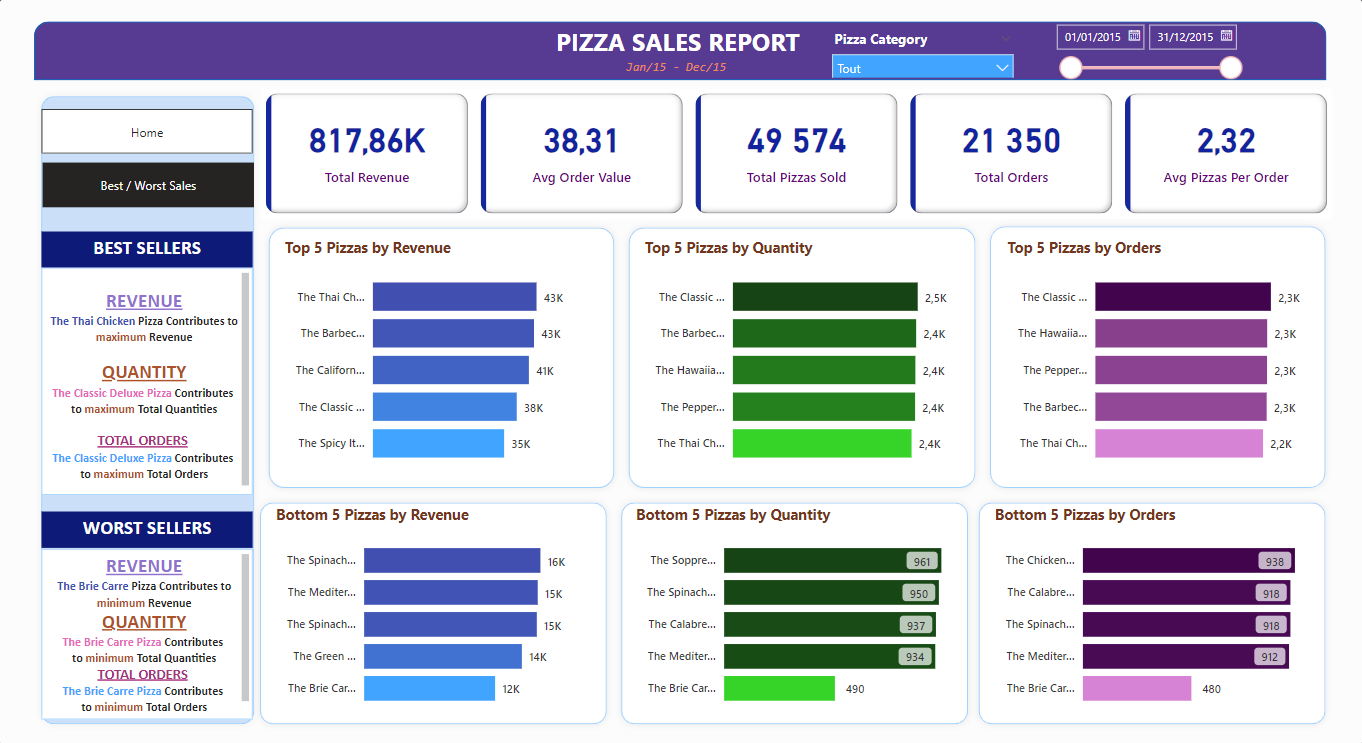

What the dashboard file says about the page in this screenshot:
{"tool":"powerbi","page":{"name":"Best / Worst Sales","canvas":[1500,820],"ordinal":1},"visuals":[{"type":"cardVisual","fields":{"Data":["pizza_sales$.Total Revenue","pizza_sales$.Avg Order Value","pizza_sales$.Total Pizzas Sold","pizza_sales$.Total Orders","pizza_sales$.Avg Pizzas Per Order"]},"box":[288.8,98.9,1177.1,142.8],"z":0},{"type":"shape","box":[38.5,24.7,1420.2,64.6],"z":1000},{"type":"textbox","box":[607.1,23.4,287.1,45.3],"z":2000},{"type":"textbox","box":[684,60.4,133.2,28.8],"z":3000},{"type":"shape","box":[288.4,243.1,395.6,302.2],"z":4000},{"type":"shape","box":[38.5,98.9,250,706],"z":5000},{"type":"textbox","box":[46.7,255.5,232.1,39.8],"z":6000},{"type":"textbox","box":[46.7,295.3,232.1,250],"z":7000},{"type":"textbox","box":[46.7,563.1,232.1,39.8],"z":8000},{"type":"textbox","box":[46.7,604.4,232.1,186.8],"z":9000},{"type":"slicer","fields":{"Values":["pizza_sales$.pizza_category"]},"box":[905.2,28.8,219.8,57.7],"z":10000},{"type":"slicer","fields":{"Values":["pizza_sales$.order_date"]},"box":[1149.6,17.9,225.3,81],"z":11000},{"type":"shape","box":[684,243.1,397,302.2],"z":12000},{"type":"shape","box":[1081,241.7,384.6,303.6],"z":13000},{"type":"shape","box":[278.8,545.3,397,259.6],"z":14000},{"type":"shape","box":[675.8,545.3,397,259.6],"z":15000},{"type":"shape","box":[1068.6,545.3,397,259.6],"z":16000},{"type":"barChart","title":"Top 5 Pizzas by Revenue","fields":{"Category":["pizza_sales$.pizza_name"],"Y":["pizza_sales$.Total Revenue"]},"box":[308.7,260.5,355.4,265.3],"z":17000},{"type":"barChart","title":"Bottom 5 Pizzas by Revenue","fields":{"Category":["pizza_sales$.pizza_name"],"Y":["pizza_sales$.Total Revenue"]},"box":[299.1,554.8,355.4,236.4],"z":18000},{"type":"barChart","title":"Top 5 Pizzas by Quantity","fields":{"Category":["pizza_sales$.pizza_name"],"Y":["pizza_sales$.Total Pizzas Sold"]},"box":[704.3,260.5,355.4,265.3],"z":19000},{"type":"barChart","title":"Bottom 5 Pizzas by Quantity","fields":{"Category":["pizza_sales$.pizza_name"],"Y":["pizza_sales$.Total Pizzas Sold"]},"box":[694.7,554.8,355.4,236.4],"z":20000},{"type":"barChart","title":"Top 5 Pizzas by Orders","fields":{"Category":["pizza_sales$.pizza_name"],"Y":["pizza_sales$.Total Orders"]},"box":[1103.1,260.5,355.4,265.3],"z":21000},{"type":"barChart","title":"Bottom 5 Pizzas by Orders","fields":{"Category":["pizza_sales$.pizza_name"],"Y":["pizza_sales$.Total Orders"]},"box":[1088.7,554.8,355.4,236.4],"z":22000},{"type":"pageNavigator","box":[48.1,179.9,232.1,49.4],"z":22001},{"type":"pageNavigator","box":[46.7,120.9,232.1,49.4],"z":22002}]}

Visuals, with their boxes in screenshot pixels (x1, y1, x2, y2), scaled from the page's 1500x820 canvas onto the 1362x743 screenshot:
cardVisual - pizza_sales$.Total Revenue x pizza_sales$.Avg Order Value: [262, 90, 1331, 219]
shape: [35, 22, 1324, 81]
textbox: [551, 21, 812, 62]
textbox: [621, 55, 742, 81]
shape: [262, 220, 621, 494]
shape: [35, 90, 262, 729]
textbox: [42, 232, 253, 268]
textbox: [42, 268, 253, 494]
textbox: [42, 510, 253, 546]
textbox: [42, 548, 253, 717]
slicer - pizza_sales$.pizza_category: [822, 26, 1022, 78]
slicer - pizza_sales$.order_date: [1044, 16, 1248, 90]
shape: [621, 220, 982, 494]
shape: [982, 219, 1331, 494]
shape: [253, 494, 614, 729]
shape: [614, 494, 974, 729]
shape: [970, 494, 1331, 729]
"Top 5 Pizzas by Revenue" barChart: [280, 236, 603, 476]
"Bottom 5 Pizzas by Revenue" barChart: [272, 503, 594, 717]
"Top 5 Pizzas by Quantity" barChart: [640, 236, 962, 476]
"Bottom 5 Pizzas by Quantity" barChart: [631, 503, 953, 717]
"Top 5 Pizzas by Orders" barChart: [1002, 236, 1324, 476]
"Bottom 5 Pizzas by Orders" barChart: [989, 503, 1311, 717]
pageNavigator: [44, 163, 254, 208]
pageNavigator: [42, 110, 253, 154]
